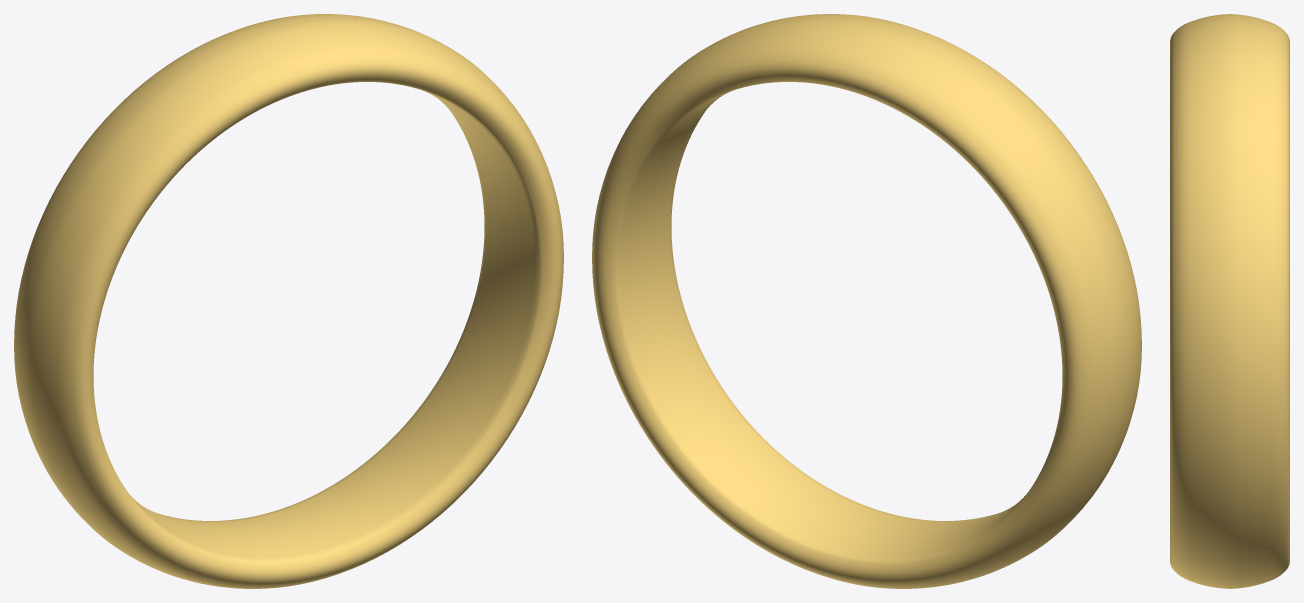
Rendered from JoshYG_blender.glb.
3 renders of one model, left to right at view 1: azimuth 30°, elevation 25°; view 2: azimuth 150°, elevation 25°; view 3: azimuth 270°, elevation 25°, orthographic. The views are drawn at different scales.
Visible parts, largest first — view 1: Josh YG HIS for 3d model; view 2: Josh YG HIS for 3d model; view 3: Josh YG HIS for 3d model.
Part boxes in pixels (box(x1,y1,x2,y2)): Josh YG HIS for 3d model: box(14, 14, 563, 588); Josh YG HIS for 3d model: box(592, 14, 1141, 588); Josh YG HIS for 3d model: box(1170, 14, 1289, 588).
Size of the model in its own units: 24.42 by 24.42 by 5.09.
